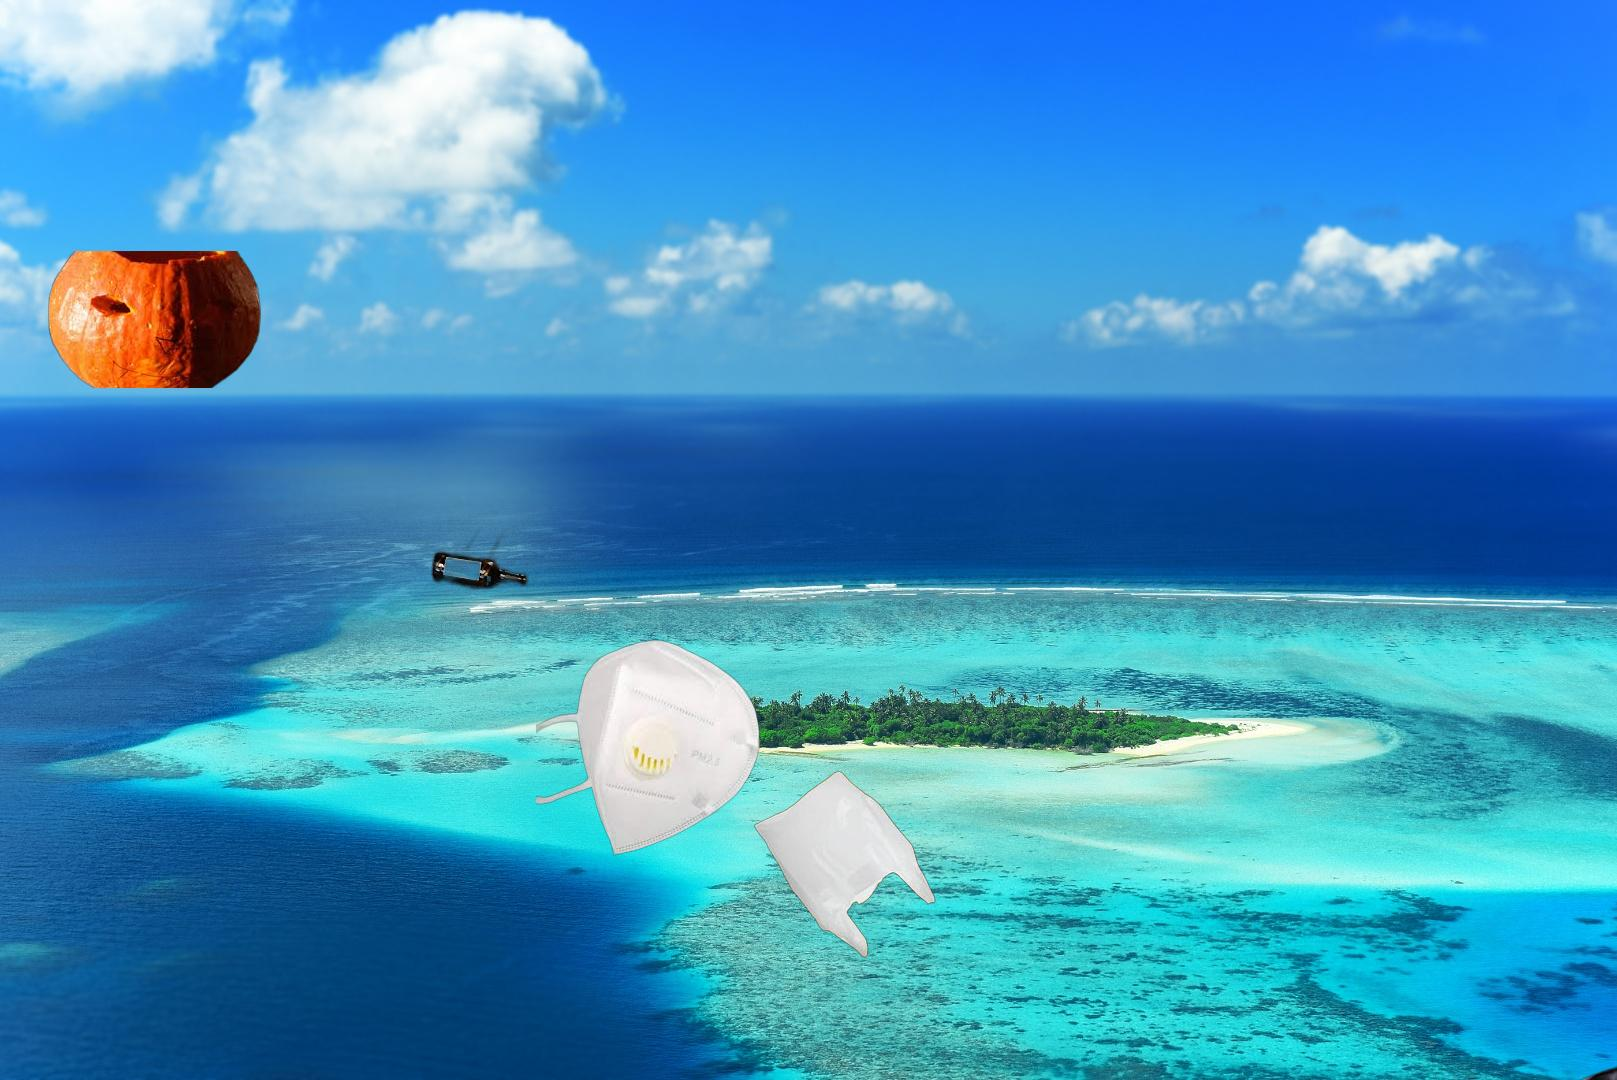biological: (45, 251, 263, 388)
glass: (423, 515, 540, 597)
metal-cans: (1034, 810, 1417, 1080)
plastic-bag: (753, 770, 937, 961)
shoes: (1516, 1037, 1617, 1080)
trash: (536, 638, 766, 857)
